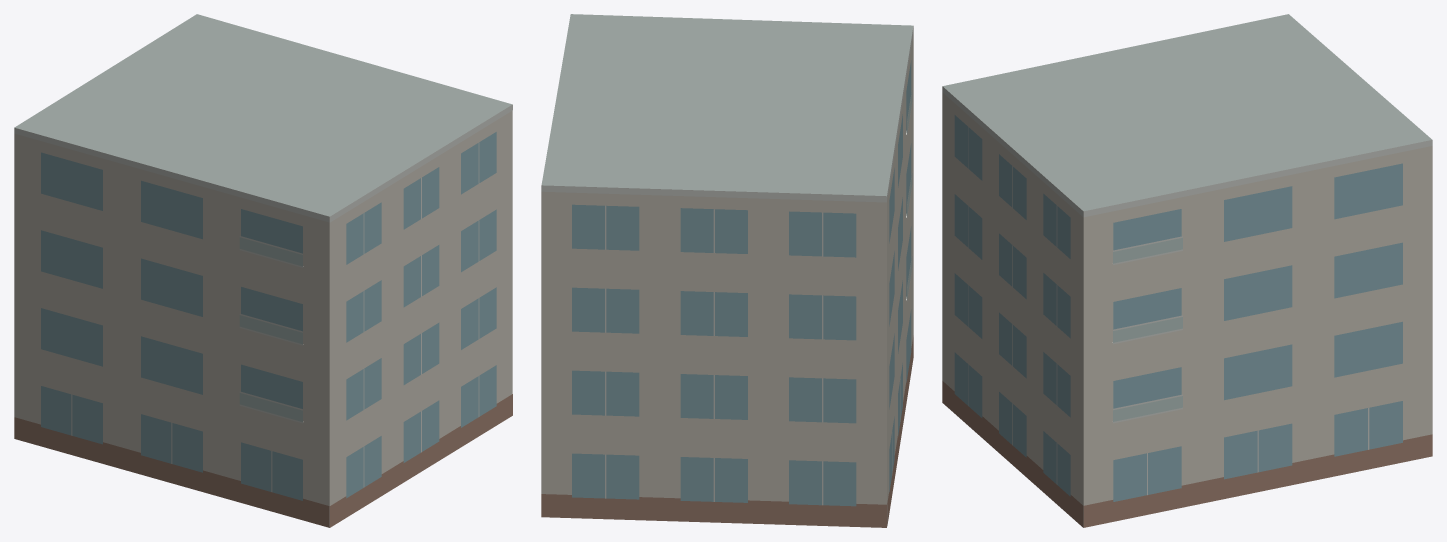
The model's file is survey-upis-32939661.glb.
3 renders of one model, left to right at view 1: azimuth 30°, elevation 25°; view 2: azimuth 150°, elevation 25°; view 3: azimuth 270°, elevation 25°, orthographic. The views are drawn at different scales.
Parts seen in each view (by area): view 1: survey-upis-32939661.tmp; view 2: survey-upis-32939661.tmp; view 3: survey-upis-32939661.tmp.
Part boxes in pixels (x1,y1,x2,y2): survey-upis-32939661.tmp: (14, 14, 512, 527); survey-upis-32939661.tmp: (541, 14, 913, 527); survey-upis-32939661.tmp: (942, 14, 1432, 527).
Bounding box in the file's own units: 17.13 × 12.8 × 17.97.
